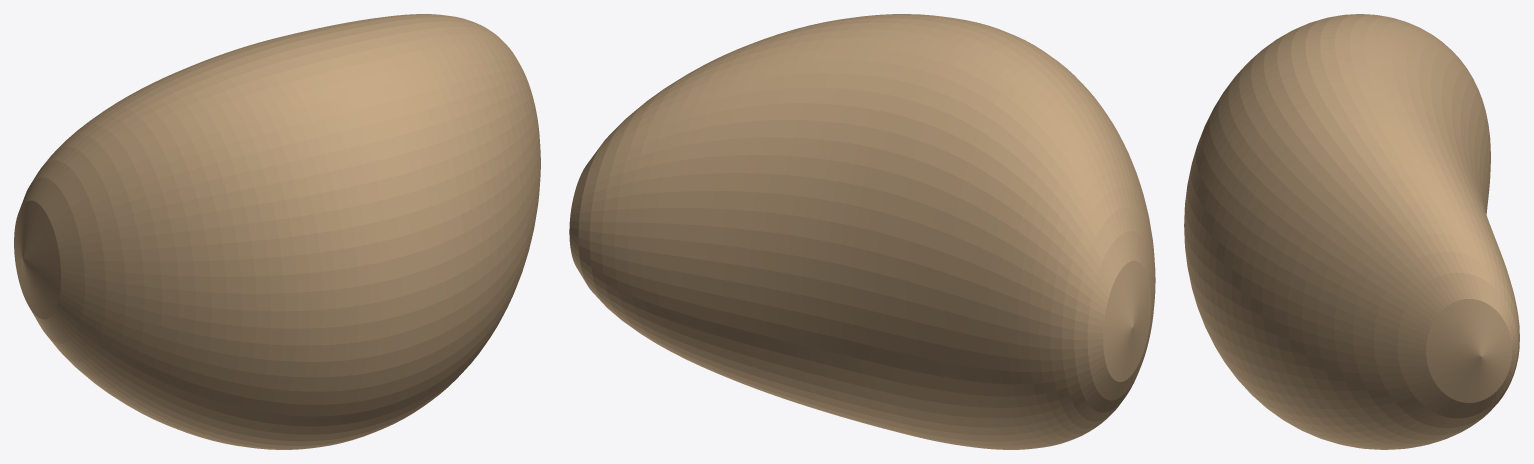
3 renders of one model, left to right at view 1: azimuth 30°, elevation 25°; view 2: azimuth 150°, elevation 25°; view 3: azimuth 270°, elevation 25°, orthographic. The views are drawn at different scales.
Parts seen in each view (by area): view 1: world; view 2: world; view 3: world.
Part boxes in pixels (box(x1,y1,x2,y2)): world: box(14, 14, 540, 449); world: box(569, 14, 1155, 449); world: box(1184, 14, 1519, 449).
Size of the model in its own units: 0.028 by 0.02 by 0.0167.
